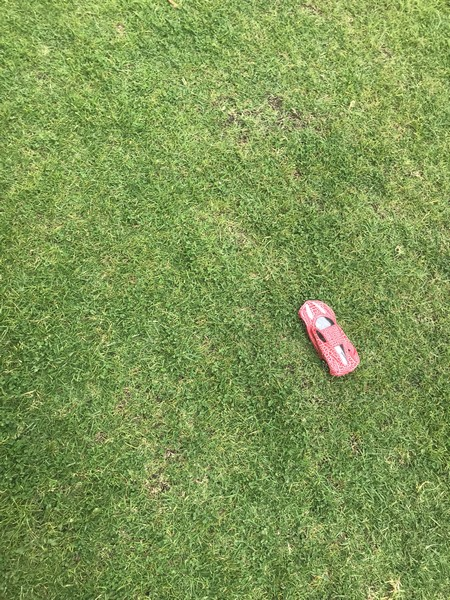RC: (297, 298, 362, 379)
